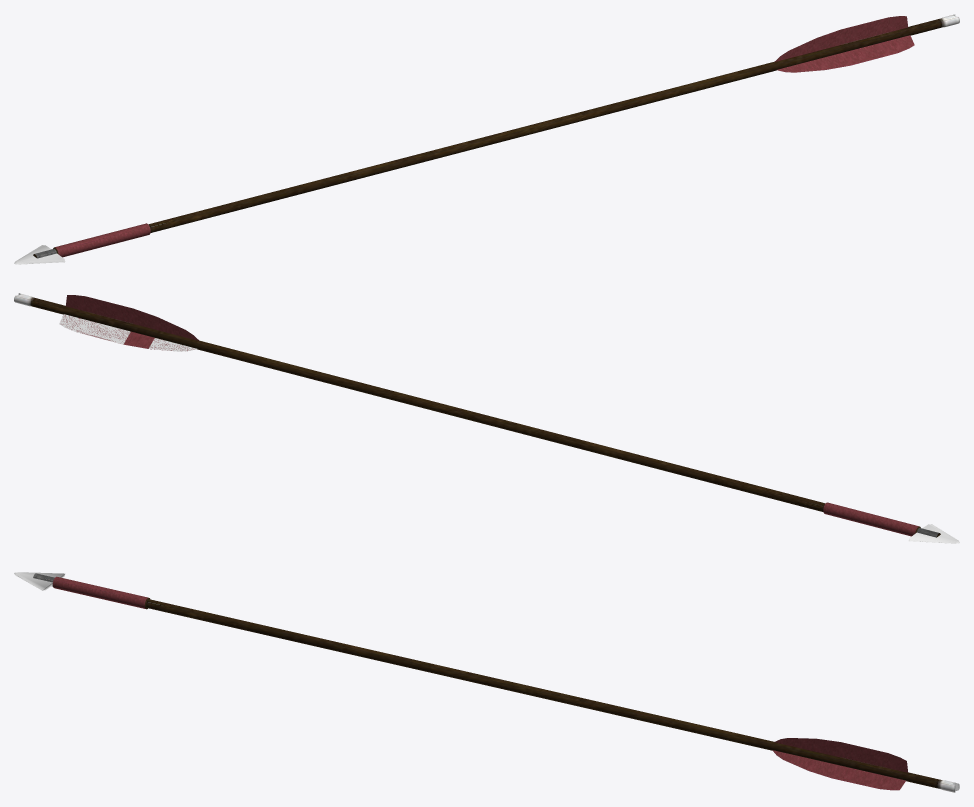
File: arrow-standard.glb
3 renders of one model, top to bottom at view 1: azimuth 30°, elevation 25°; view 2: azimuth 150°, elevation 25°; view 3: azimuth 330°, elevation 25°, orthographic.
Parts seen in each view (by area): view 1: flecha; view 2: flecha; view 3: flecha.
Boxes of the visible parts, <box> form: flecha: <box>14,14,959,264</box>; flecha: <box>14,293,959,543</box>; flecha: <box>14,572,959,792</box>.
Size of the model in its own units: 0.9511 by 0.0366 by 0.0408.
1 material, 1 textured.
